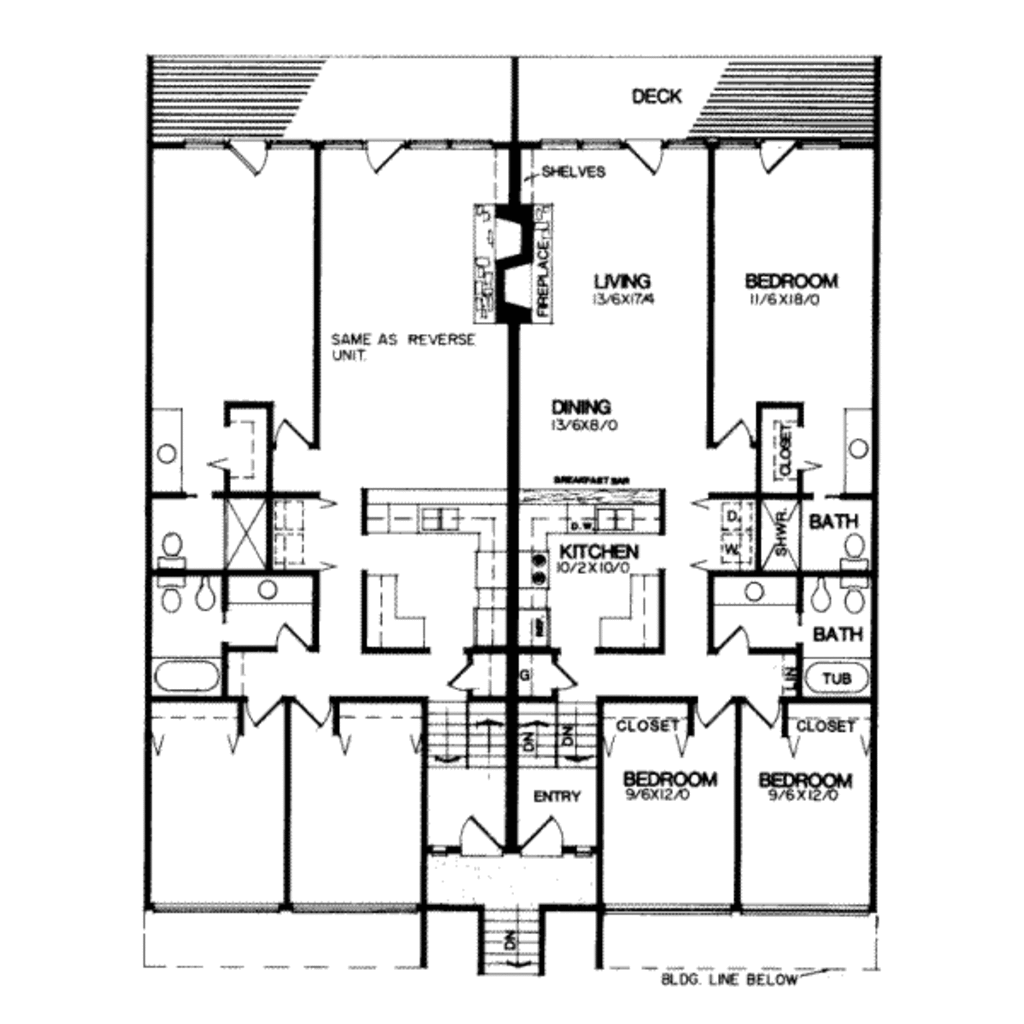door: (228, 132, 295, 186), (620, 122, 669, 178), (353, 130, 408, 177), (514, 816, 572, 860), (444, 816, 503, 857), (272, 414, 322, 461), (752, 138, 803, 183), (239, 689, 286, 730), (691, 691, 736, 732), (292, 691, 333, 735), (741, 702, 786, 738), (717, 414, 756, 453), (714, 624, 755, 653), (277, 624, 309, 657)
large_sink: (156, 530, 200, 578), (158, 574, 197, 624), (839, 527, 873, 578), (839, 577, 864, 624)
small_sink: (838, 405, 872, 499), (150, 411, 181, 496), (223, 574, 317, 602), (711, 571, 783, 602)
stairs: (519, 703, 602, 775), (481, 907, 558, 980), (427, 700, 508, 769)
tub: (802, 652, 873, 700), (155, 653, 222, 696)
